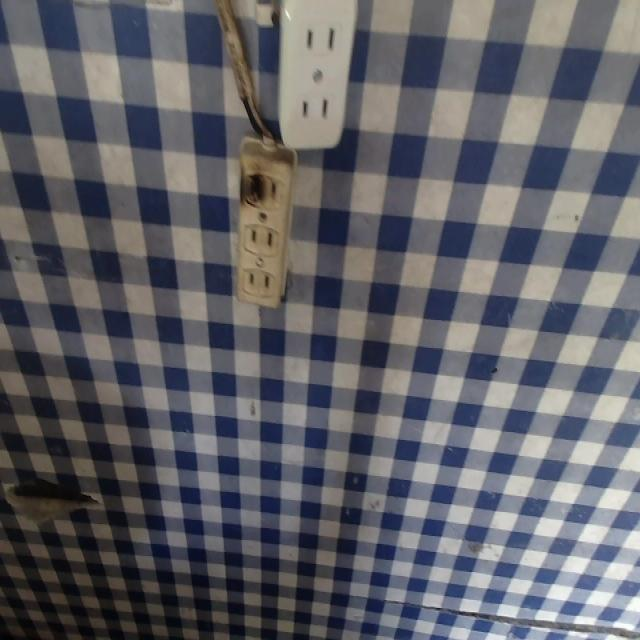-: (238, 158, 267, 210)
